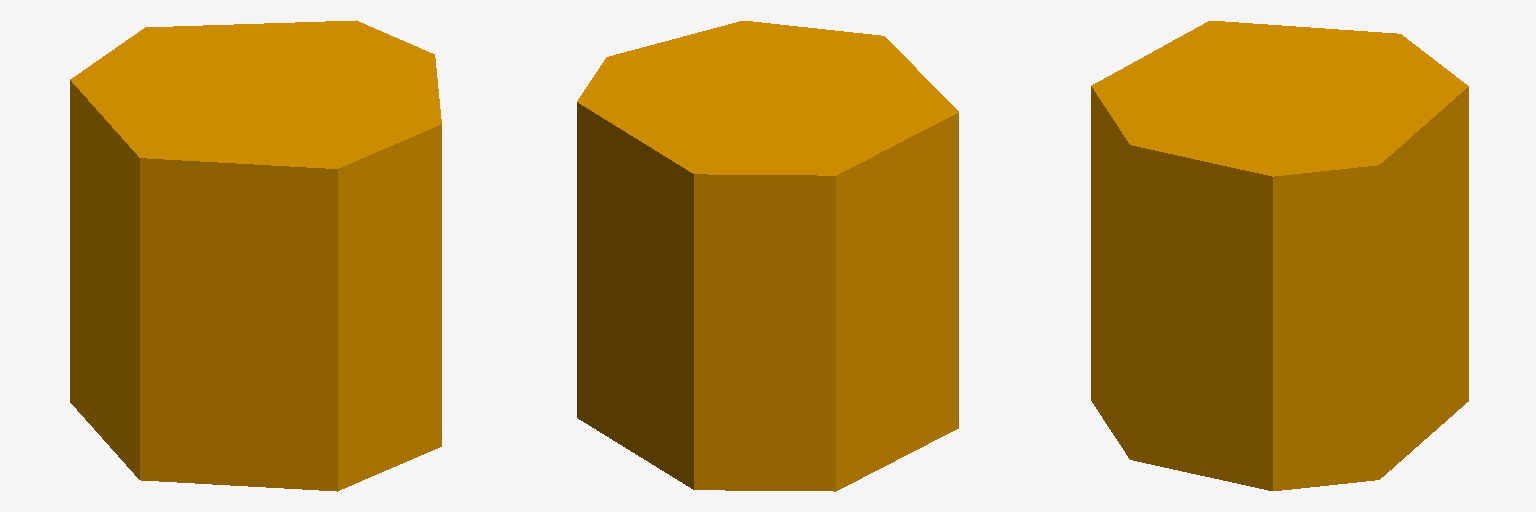
The robot description file, URDF, robot "object":
<?xml version="1.0"?>
<robot name="object">
  <link name="object">
    <visual>
      <origin xyz="0 0 0"/>
      <geometry>
        <mesh filename="meshes/generated/col_038.obj" scale="0.03 0.03 0.03"/>
      </geometry>
    </visual>
    <collision>
      <origin xyz="0 0 0"/>
      <geometry>
        <mesh filename="meshes/generated/col_038.obj" scale="0.03 0.03 0.03"/>
      </geometry>
    </collision>
    <inertial>
      <density value="1000.0"/>
    </inertial>
  </link>
</robot>

--- What the picture shows (computed from the rendered views, not written in the file) ---
Views: 3 orthographic renders of the robot side by side, from view 1: azimuth 30°, elevation 25°; view 2: azimuth 150°, elevation 25°; view 3: azimuth 270°, elevation 25°.
Robot: object — 1 links, 0 joints (none); root link object; default pose: every joint at zero.
Visible links, largest first — view 1: object; view 2: object; view 3: object.
Link boxes in pixels (bbox=[...]): object: bbox=[70, 20, 441, 491]; object: bbox=[577, 21, 958, 491]; object: bbox=[1091, 21, 1468, 490].
Size in the robot's own frame: 0.0638 by 0.0653 by 0.06 metres.
Meshes: 1 distinct files referenced, 1 mesh visuals loaded (1 OBJ).
